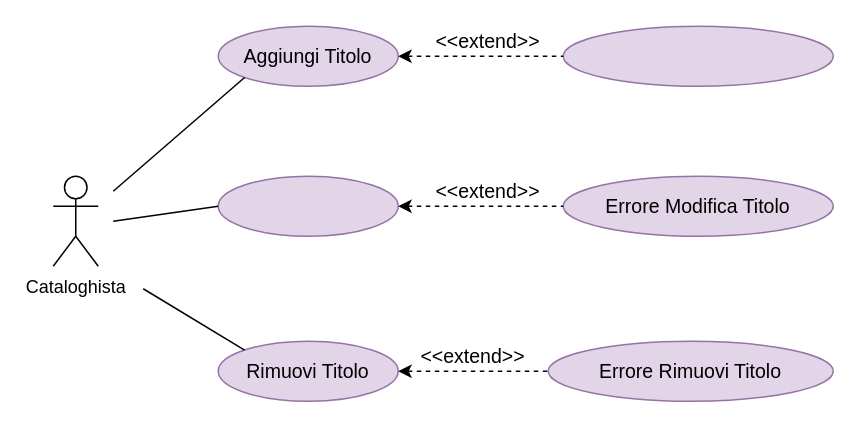
Some shapes in this 860 by 428 pixel diagram are drawn without their labels. Each missing label, with the box of its shape:
Errore Aggiungi Titolo: (562, 25, 833, 86)
Modifica Titolo: (217, 175, 398, 236)
